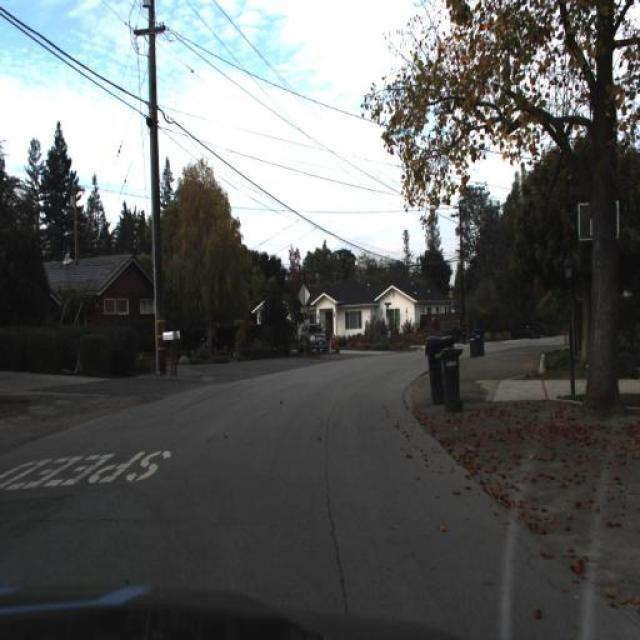car: (297, 318, 328, 354), (323, 326, 341, 359)
trafficLight: (384, 320, 394, 348)
